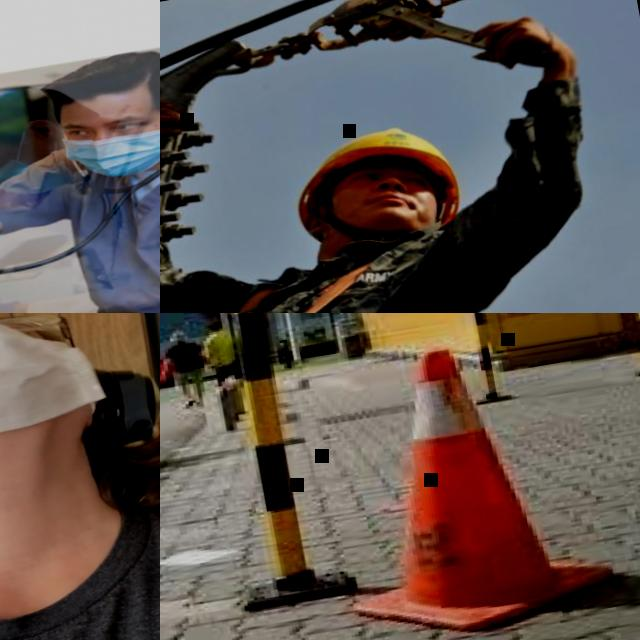Mask: (0, 313, 110, 460), (67, 120, 160, 180), (0, 149, 68, 200)
NO-Hardhat: (41, 43, 160, 118), (0, 77, 72, 156), (0, 230, 66, 265), (168, 329, 185, 342), (206, 320, 221, 331)
NO-Mask: (307, 172, 434, 235)
NO-Safety Vest: (0, 457, 160, 640), (180, 235, 448, 313), (206, 331, 237, 366), (168, 344, 204, 373)
Person: (160, 0, 640, 313), (0, 313, 160, 640), (0, 35, 160, 313), (285, 112, 470, 244), (0, 71, 82, 195), (160, 325, 212, 411), (197, 319, 242, 390)
Safety Cone: (319, 321, 622, 640)
